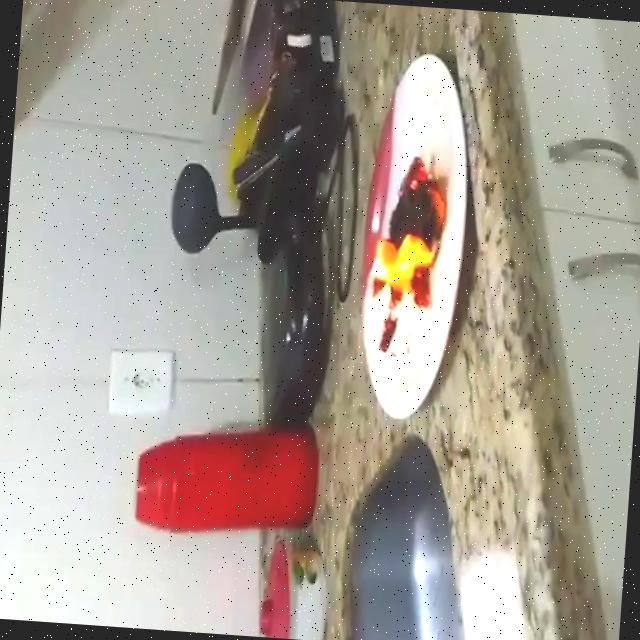fire: (354, 159, 451, 328)
